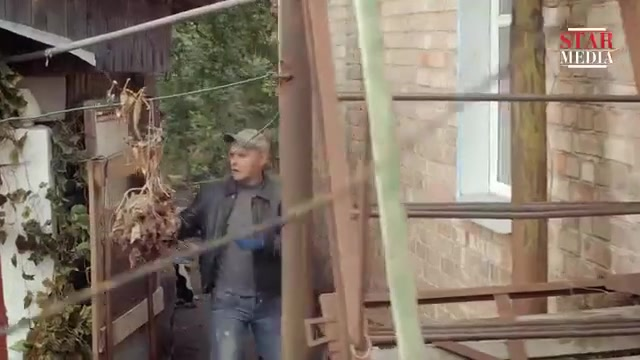Marcher: (173, 125, 282, 360)
